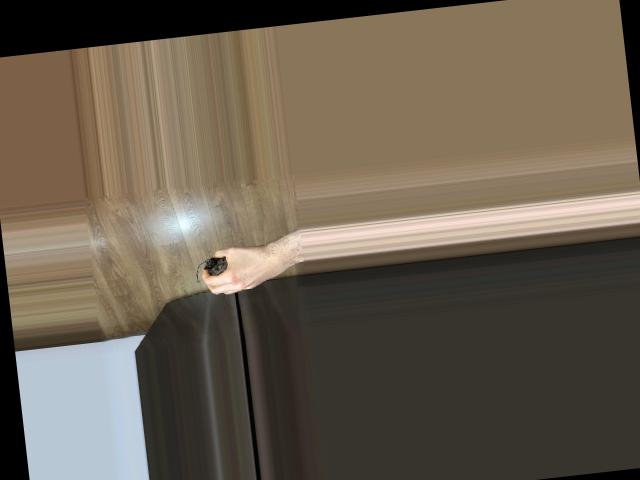beet: (193, 255, 228, 283)
